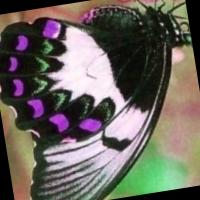butterfly: (0, 5, 192, 200)
